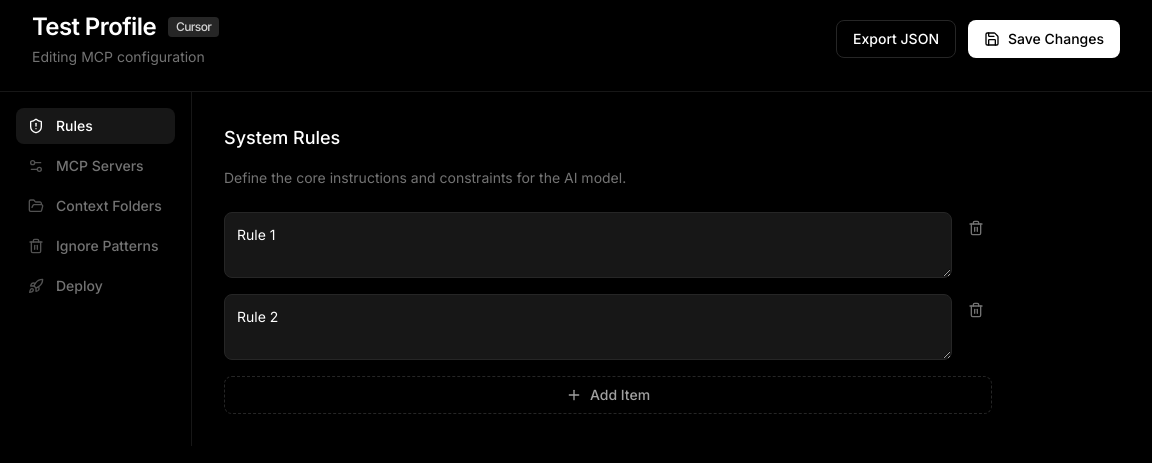
Test: EditorView › switches to the Context Folders tab
Click the button "Context Folders".
click(96, 206)  # box x1=16 y1=188 x2=175 y2=224
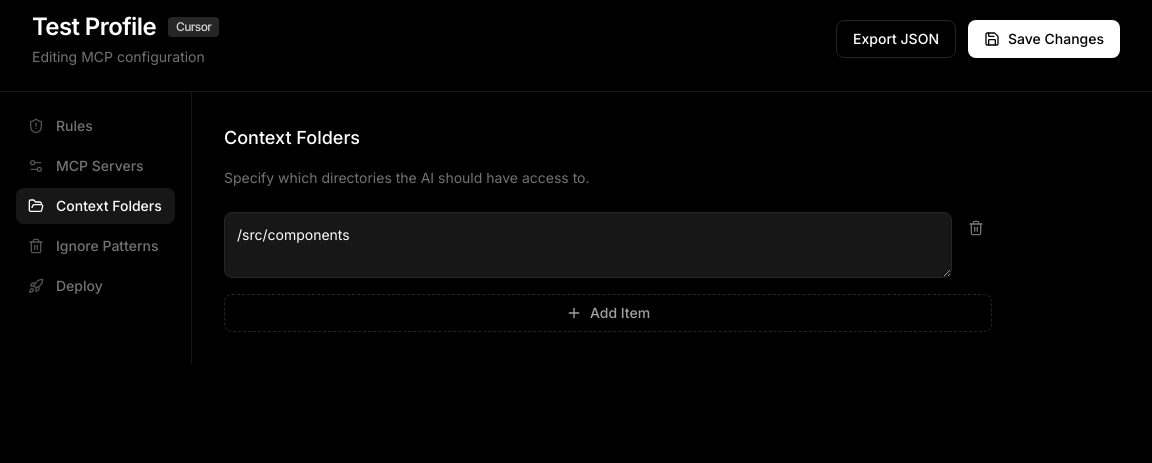
expect the text box showing "/src/components" is shown: met, box x1=224 y1=212 x2=952 y2=278
